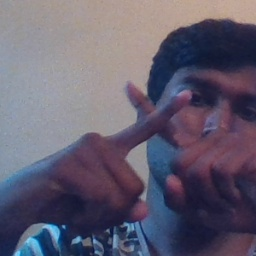X: (81, 65, 219, 194)
